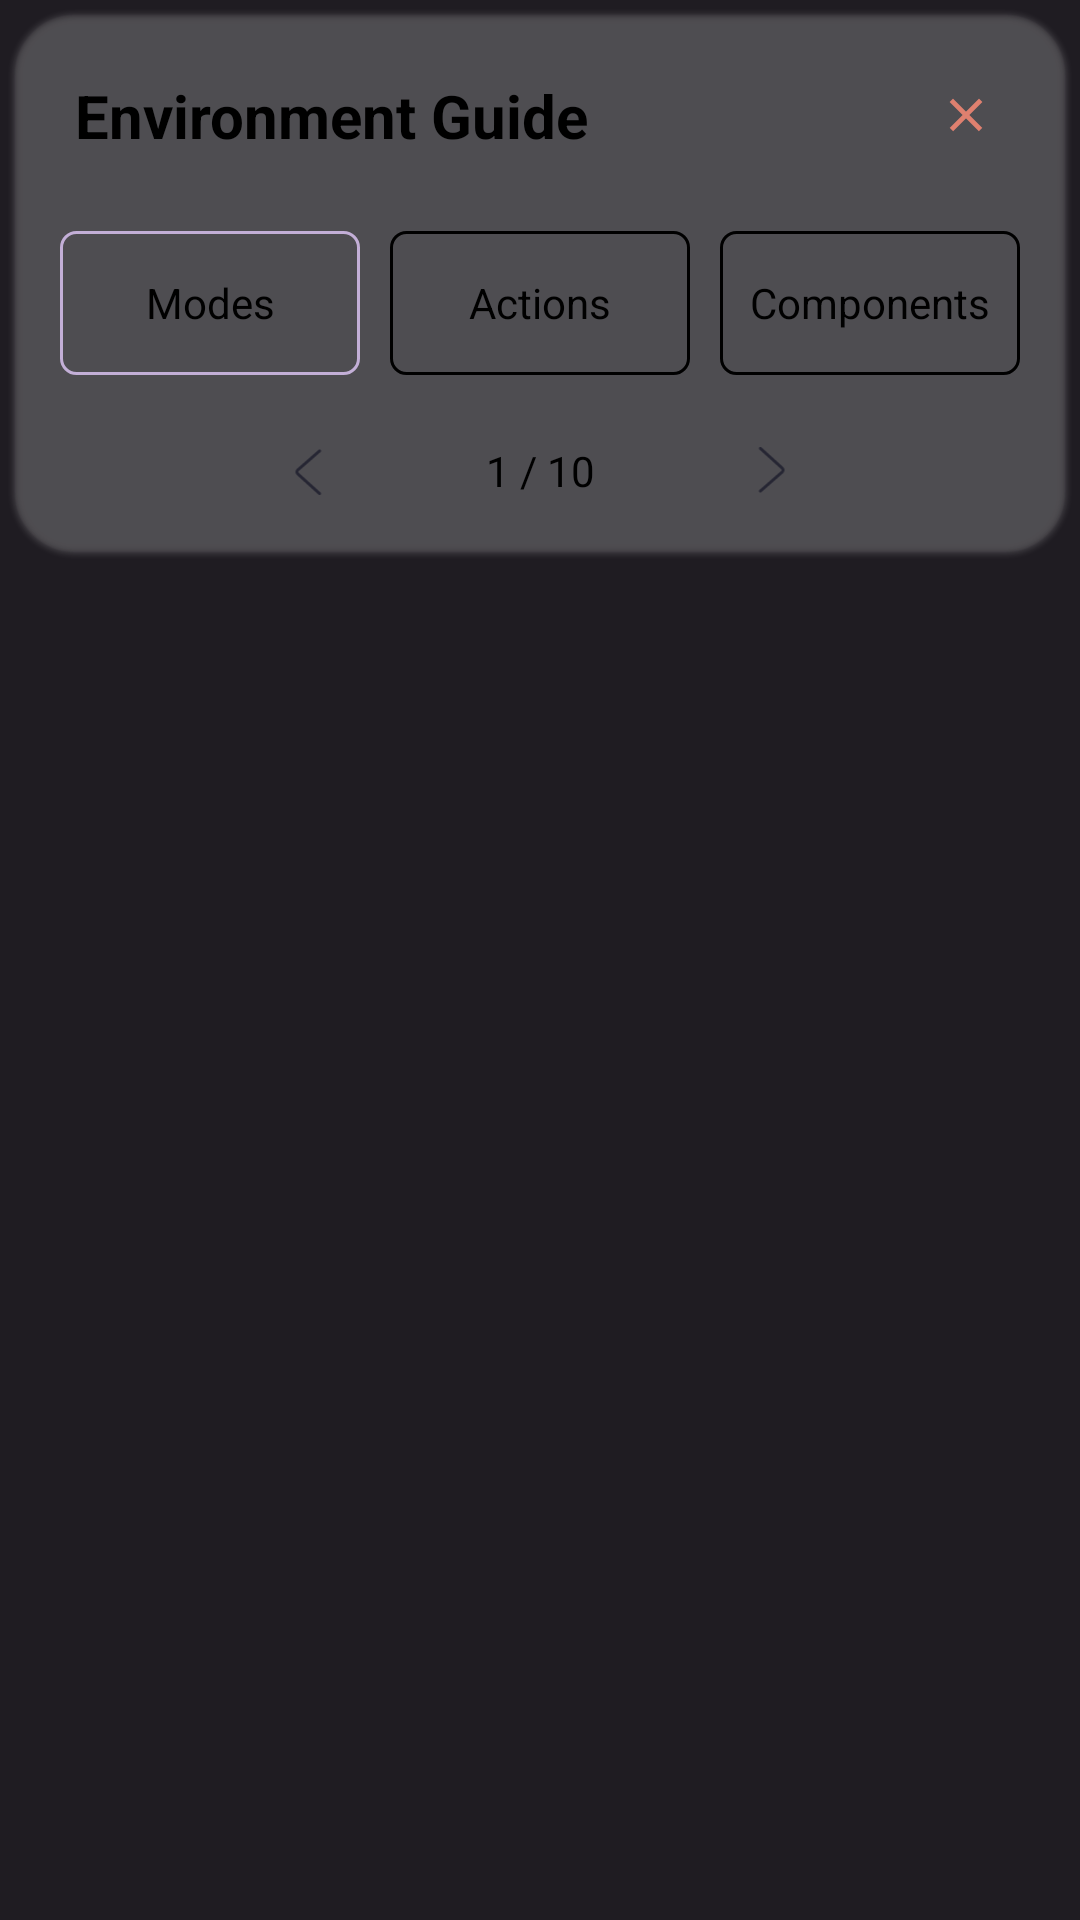

Icon bounding boxes for this 1080w x 1920h phone screenshot, format (x1, y1, x2, y2):
back: (296, 450, 321, 495)
close: (950, 99, 982, 131)
next: (759, 447, 784, 492)
